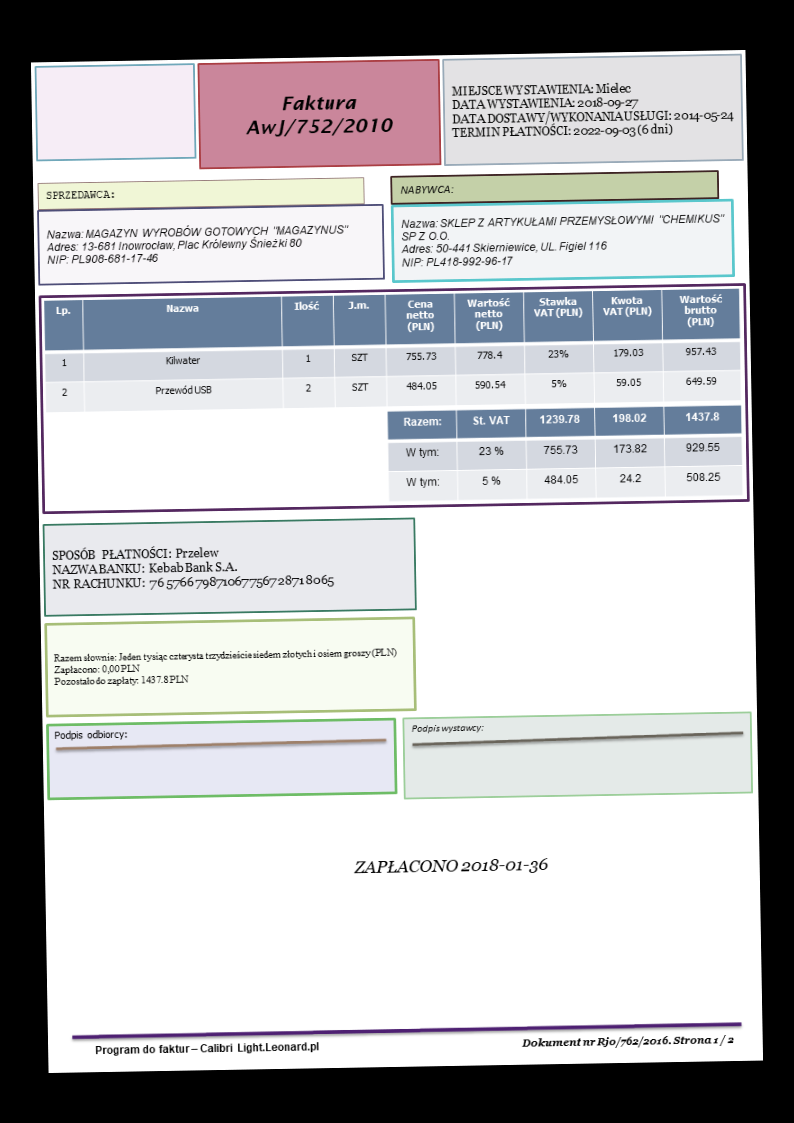Table: (43, 288, 742, 413), (385, 403, 744, 503)
TextBox: (397, 210, 728, 269), (450, 76, 736, 142), (50, 538, 335, 595), (52, 645, 400, 689), (45, 221, 352, 267), (242, 89, 398, 141), (350, 853, 554, 878), (92, 1037, 322, 1059), (520, 1029, 737, 1052), (52, 723, 129, 743), (43, 184, 116, 203), (408, 719, 483, 735), (397, 179, 455, 196)
